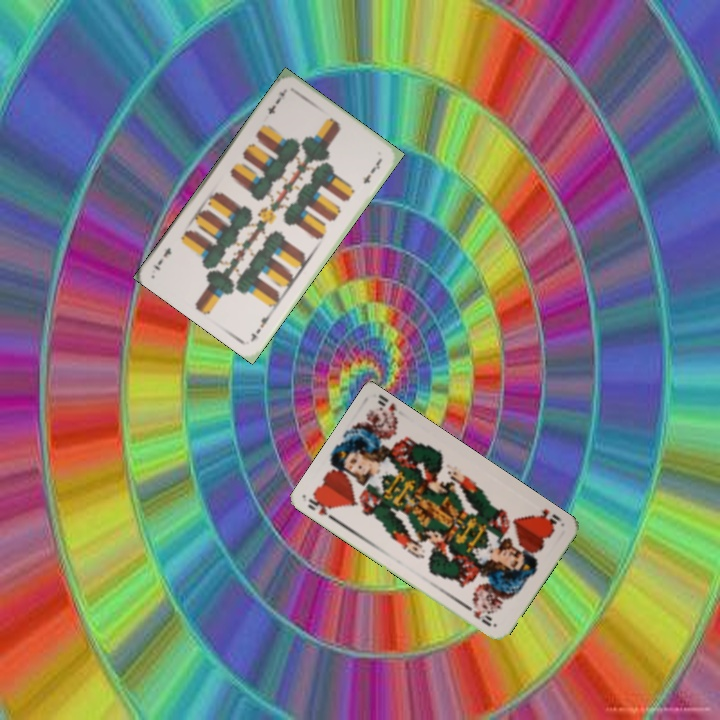E7: (246, 308, 275, 344), (263, 86, 289, 117)
HO: (304, 491, 340, 524), (532, 505, 564, 532)
